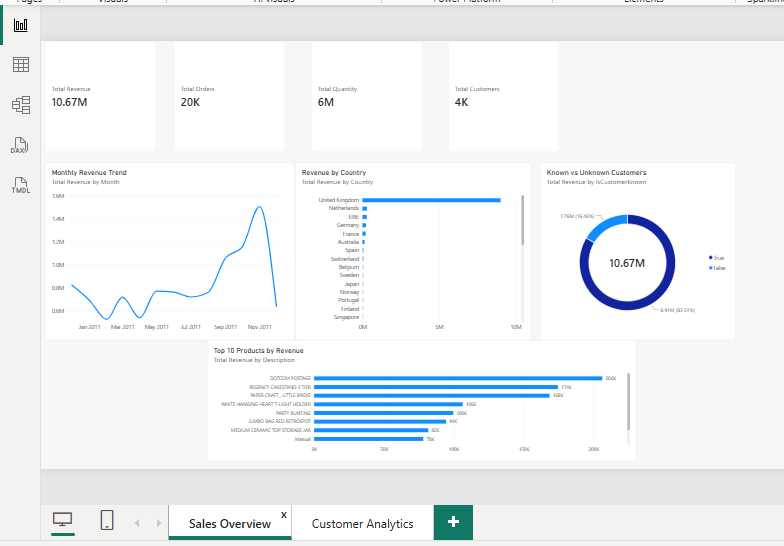

This screenshot's page, from the dashboard's own definition file:
{"tool":"powerbi","page":{"name":"Sales Overview","canvas":[1920,1080],"ordinal":0},"visuals":[{"type":"cardVisual","fields":{"Data":["transactions_clean.Total Revenue"]},"box":[10,0,280,280],"z":0},{"type":"cardVisual","fields":{"Data":["transactions_clean.Total Orders"]},"box":[335.1,0,280,280],"z":1},{"type":"cardVisual","fields":{"Data":["transactions_clean.Total Quantity"]},"box":[680.3,0,280,280],"z":2},{"type":"cardVisual","fields":{"Data":["transactions_clean.Total Customers"]},"box":[1025.5,0,280,280],"z":3},{"type":"lineChart","title":"Monthly Revenue Trend","fields":{"Category":["transactions_clean.Month"],"Y":["transactions_clean.Total Revenue"]},"box":[10.1,304.9,629.9,448.5],"z":4},{"type":"clusteredBarChart","title":"Revenue by Country","fields":{"Category":["transactions_clean.Country"],"Y":["transactions_clean.Total Revenue"]},"box":[640,304.9,594.6,448.5],"z":5},{"type":"donutChart","title":"Known vs Unknown Customers","fields":{"Category":["transactions_clean.IsCustomerKnown"],"Y":["transactions_clean.Total Revenue"]},"box":[1257.3,304.9,493.9,448.5],"z":6},{"type":"clusteredBarChart","title":"Top 10 Products by Revenue","fields":{"Category":["transactions_clean.Description"],"Y":["transactions_clean.Total Revenue"]},"box":[418.3,753.4,1083.5,304.9],"z":7}]}

Visuals, with their boxes on the page's 1920x1080 design canvas (x1, y1, x2, y2). These are canvas units, not pixel positions in the 784x546 screenshot, which may show the page scaled, cropped or inside an application window:
cardVisual - transactions_clean.Total Revenue: x1=10 y1=0 x2=290 y2=280
cardVisual - transactions_clean.Total Orders: x1=335 y1=0 x2=615 y2=280
cardVisual - transactions_clean.Total Quantity: x1=680 y1=0 x2=960 y2=280
cardVisual - transactions_clean.Total Customers: x1=1026 y1=0 x2=1306 y2=280
"Monthly Revenue Trend" lineChart: x1=10 y1=305 x2=640 y2=753
"Revenue by Country" clusteredBarChart: x1=640 y1=305 x2=1235 y2=753
"Known vs Unknown Customers" donutChart: x1=1257 y1=305 x2=1751 y2=753
"Top 10 Products by Revenue" clusteredBarChart: x1=418 y1=753 x2=1502 y2=1058
